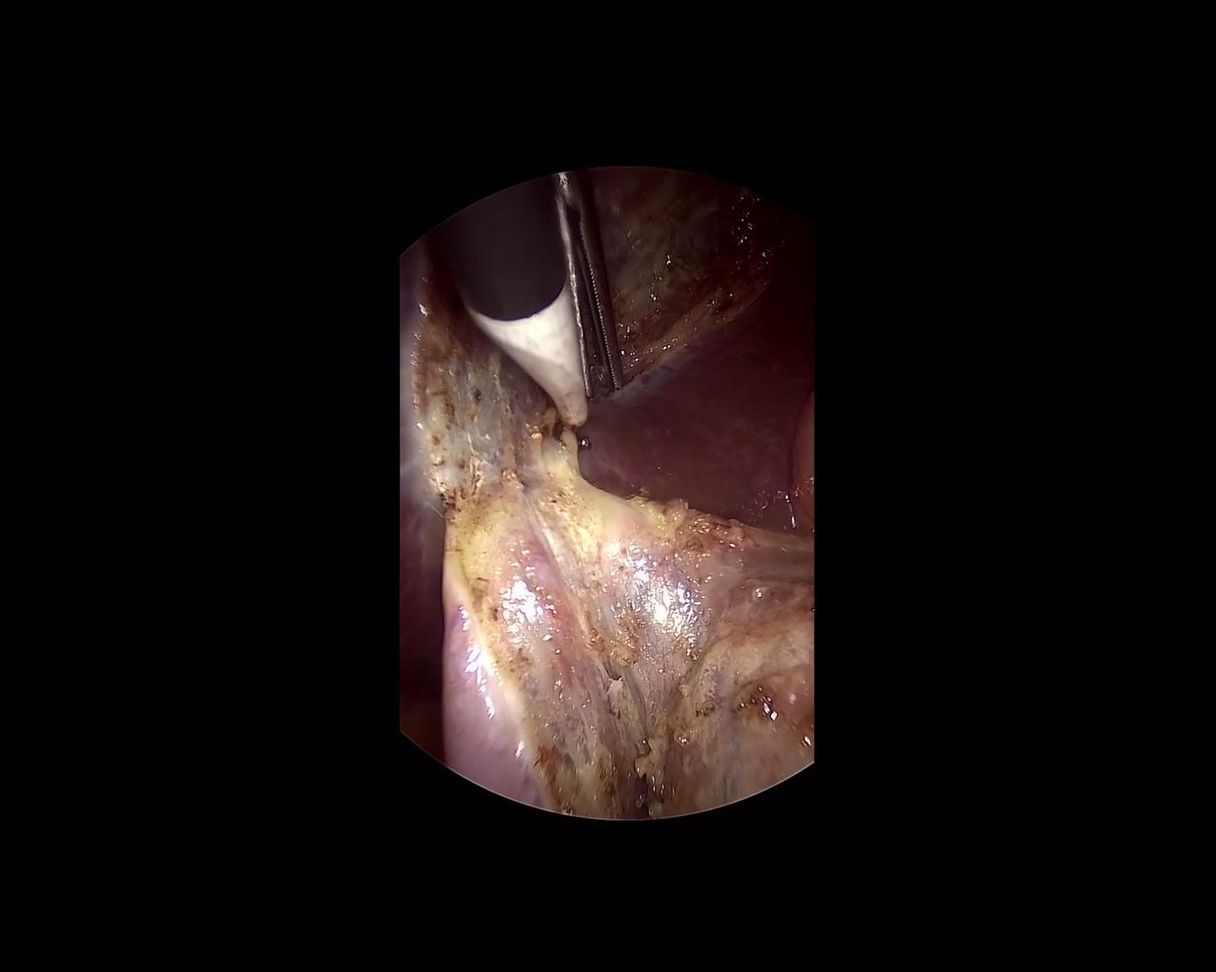Cautery: (426, 177, 590, 443)
Forceps: (553, 165, 624, 397)
Gallbladder: (442, 473, 813, 818)
Liver: (569, 183, 839, 530), (393, 241, 443, 666)
